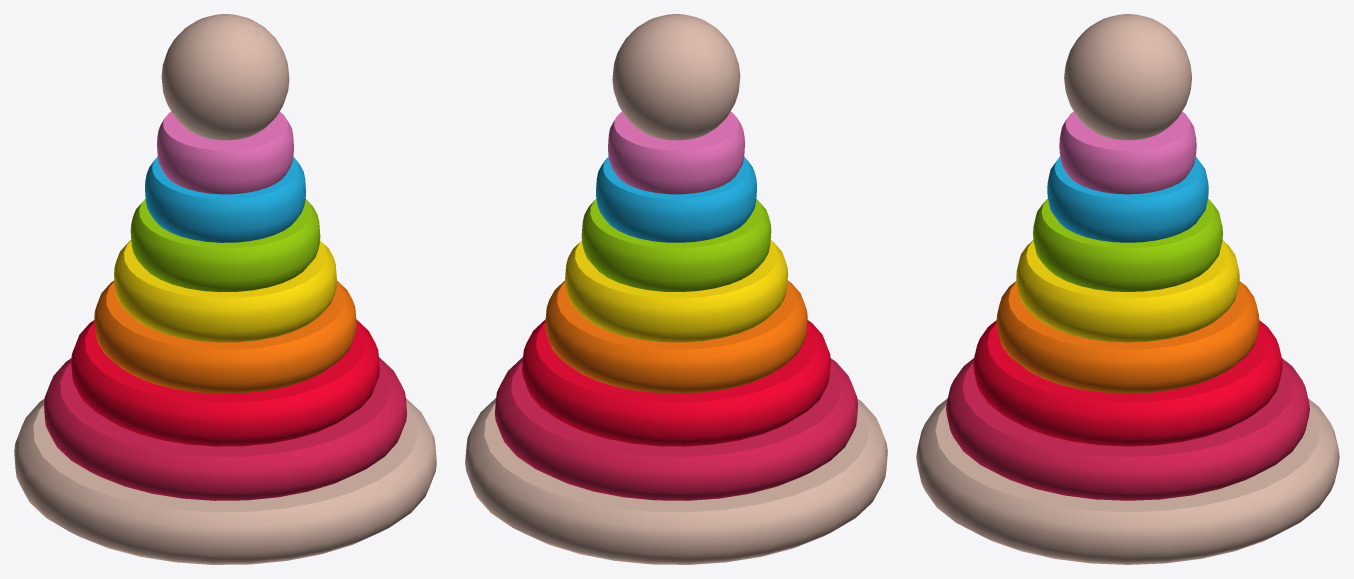
The model's file is Stacker.fbx.
3 views of the same model, side by side, from view 1: azimuth 30°, elevation 25°; view 2: azimuth 150°, elevation 25°; view 3: azimuth 270°, elevation 25° (orthographic).
Parts seen in each view (by area): view 1: Stacker; view 2: Stacker; view 3: Stacker.
Boxes of the visible parts, x1,y1,x2,y2 form: Stacker: [14, 14, 436, 564]; Stacker: [465, 14, 887, 564]; Stacker: [916, 14, 1339, 564].
Size of the model in its own units: 1004 by 1213 by 1004.
